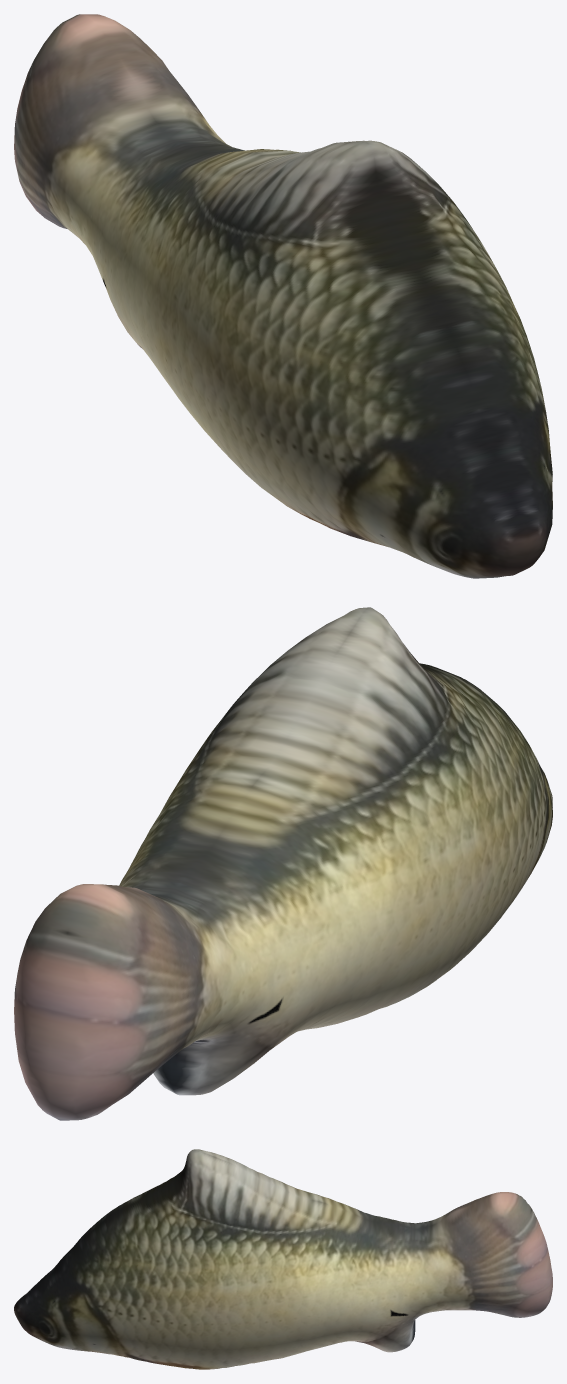
Rendered from carp.glb.
3 views of the same model, one above another, from view 1: azimuth 30°, elevation 25°; view 2: azimuth 150°, elevation 25°; view 3: azimuth 270°, elevation 25° (orthographic). The views are drawn at different scales.
Parts seen in each view (by area): view 1: Mesh_0; view 2: Mesh_0; view 3: Mesh_0.
Part boxes in pixels (bbox=[...]): Mesh_0: bbox=[14, 14, 552, 578]; Mesh_0: bbox=[14, 607, 552, 1120]; Mesh_0: bbox=[14, 1149, 552, 1369].
Size of the model in its own units: 6.02 by 8.1 by 18.59.
1 material, 1 textured.
